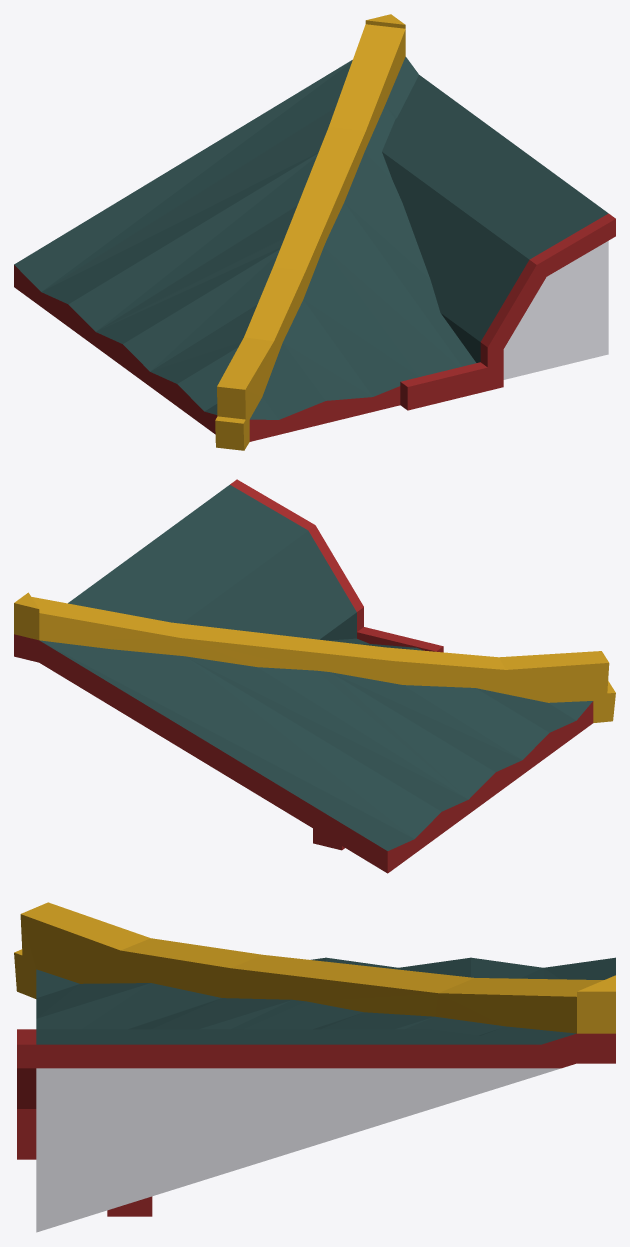
Rendered from Asian_Prop_Building_Modular_Roof_Corner_Outer_02.FBX.
The picture shows the model from 3 angles, top to bottom: view 1: azimuth 30°, elevation 25°; view 2: azimuth 150°, elevation 25°; view 3: azimuth 270°, elevation 25°; orthographic projection. The views are drawn at different scales.
Visible parts, largest first — view 1: Asian_Prop_Building_Modular_Roof_Corner_Outer_02; view 2: Asian_Prop_Building_Modular_Roof_Corner_Outer_02; view 3: Asian_Prop_Building_Modular_Roof_Corner_Outer_02.
Boxes of the visible parts, left/top/right/bottom form: Asian_Prop_Building_Modular_Roof_Corner_Outer_02: left=14, top=14, right=615, bottom=450; Asian_Prop_Building_Modular_Roof_Corner_Outer_02: left=14, top=479, right=615, bottom=873; Asian_Prop_Building_Modular_Roof_Corner_Outer_02: left=14, top=902, right=615, bottom=1232.
Size of the model in its own units: 6707 by 2968 by 6707.
